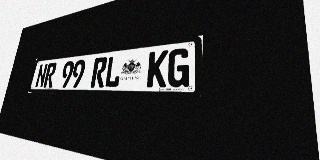9: (70, 59, 86, 88), (59, 60, 75, 88)
G: (167, 47, 191, 87)
K: (146, 50, 169, 87)
L: (104, 55, 123, 87)
N: (35, 63, 48, 88)
R: (90, 57, 108, 88), (43, 62, 57, 88)
